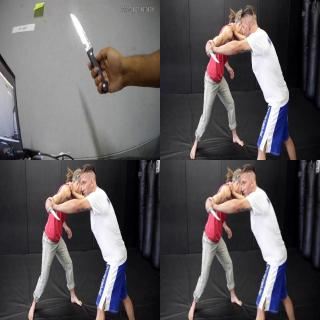knife: (65, 7, 111, 95), (43, 200, 61, 222), (204, 200, 222, 222), (204, 43, 220, 65)
